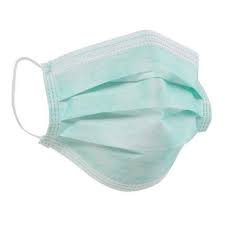flumask: (45, 36, 196, 180)
